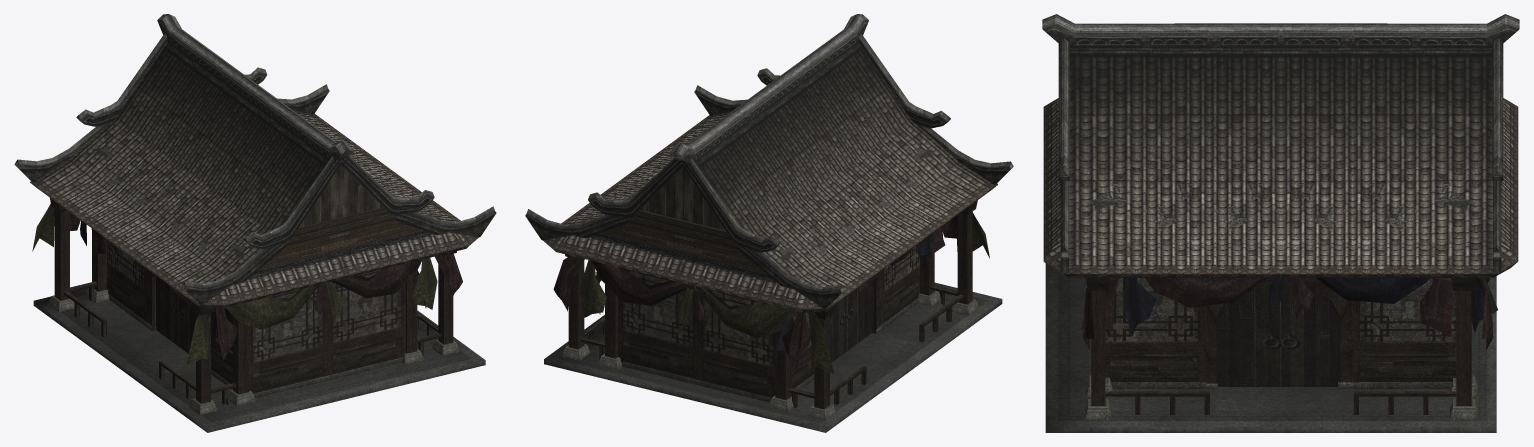
The model's file is ep-032-shamanhouse.fbx.
The picture shows the model from 3 angles, left to right: view 1: azimuth 30°, elevation 25°; view 2: azimuth 150°, elevation 25°; view 3: azimuth 270°, elevation 25°; orthographic projection. The views are drawn at different scales.
Visible parts, largest first — view 1: ep-032-shamanhouse; view 2: ep-032-shamanhouse; view 3: ep-032-shamanhouse.
Part boxes in pixels (x1,y1,x2,y2): ep-032-shamanhouse: (14, 14, 496, 432); ep-032-shamanhouse: (525, 14, 1013, 432); ep-032-shamanhouse: (1042, 14, 1519, 432).
Bounding box in the file's own units: 9.89 × 7.73 × 10.11.
